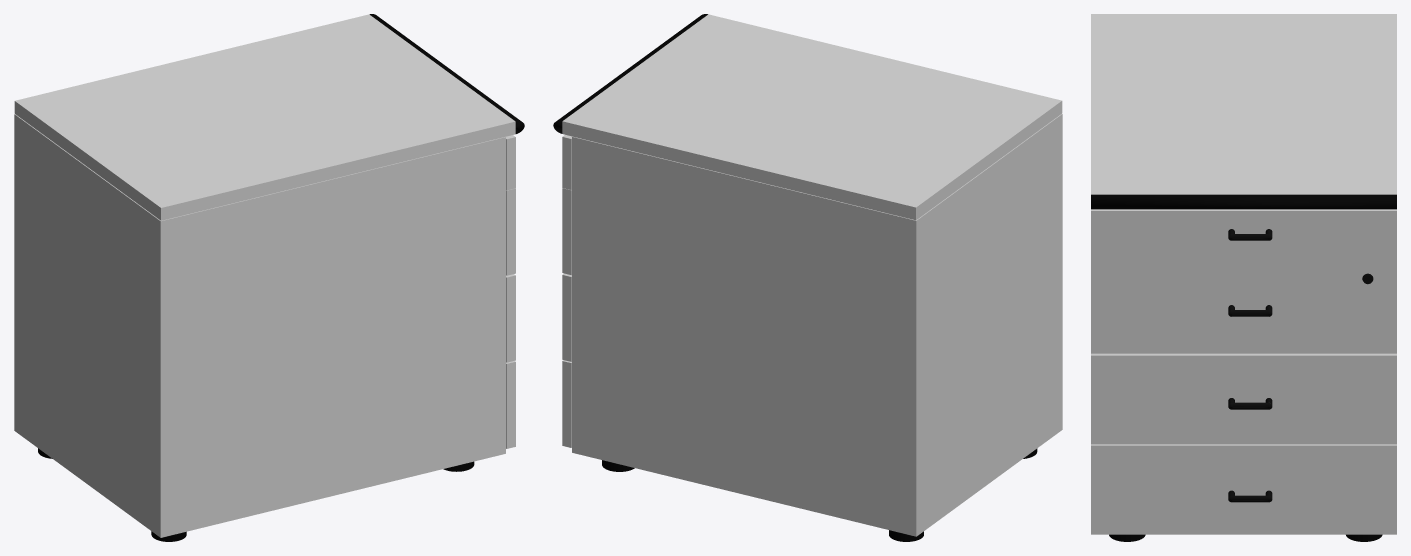
Rendered from Frog Cassettiera.gltf.
3 renders of one model, left to right at view 1: azimuth 30°, elevation 25°; view 2: azimuth 150°, elevation 25°; view 3: azimuth 270°, elevation 25°, orthographic. The views are drawn at different scales.
Parts seen in each view (by area): view 1: Frog Cassettiera; view 2: Frog Cassettiera; view 3: Frog Cassettiera.
Boxes of the visible parts, x1,y1,x2,y2 form: Frog Cassettiera: (14,14,524,541); Frog Cassettiera: (553,14,1062,541); Frog Cassettiera: (1091,14,1396,541).
Size of the model in its own units: 0.5999 by 0.5399 by 0.415.
Materials: 3 (1 with a texture image).
